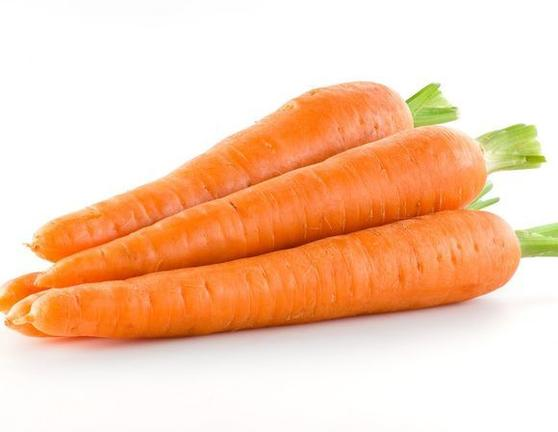carrot: (14, 201, 517, 346)
